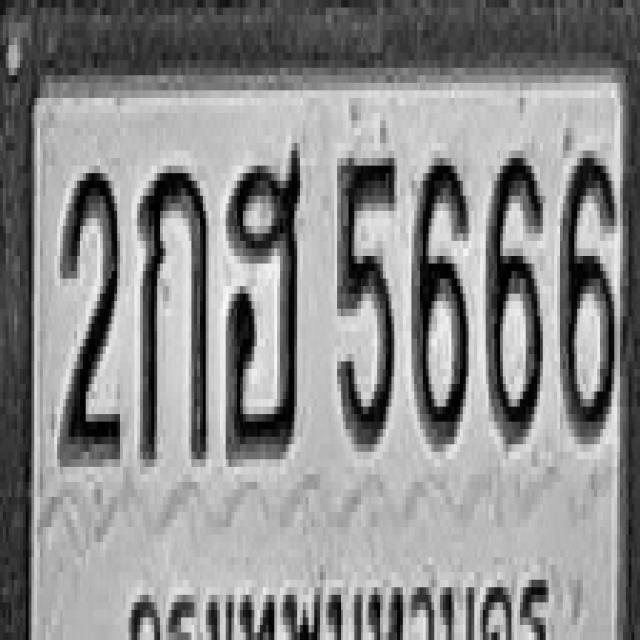10GorGai: (137, 162, 209, 463)
2: (58, 166, 118, 459)
5: (337, 151, 394, 444)
53HorNokHook: (224, 143, 302, 459)
6: (486, 151, 543, 444), (413, 151, 467, 444), (560, 147, 614, 440)
